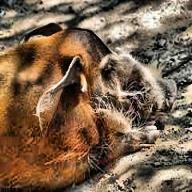boar: (0, 9, 172, 192)
